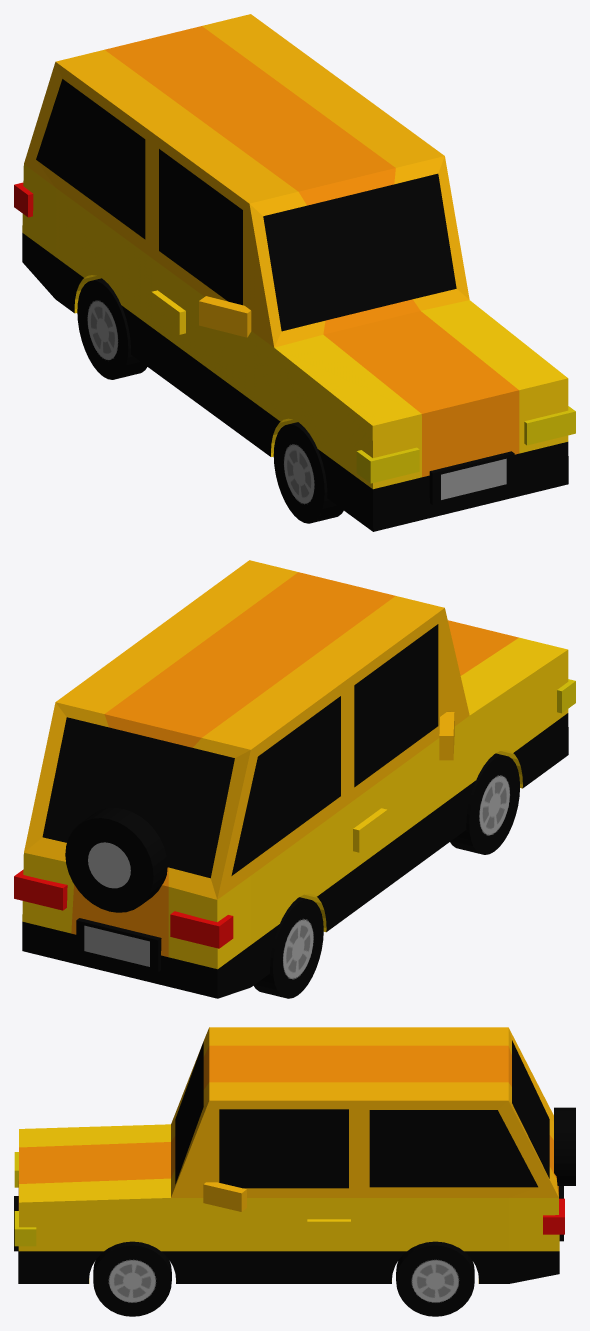
File: Mobil_4_Kuning_D.fbx
The picture shows the model from 3 angles, top to bottom: view 1: azimuth 30°, elevation 25°; view 2: azimuth 150°, elevation 25°; view 3: azimuth 270°, elevation 25°; orthographic projection. The views are drawn at different scales.
Parts seen in each view (by area): view 1: Mobil4; view 2: Mobil4; view 3: Mobil4.
Part boxes in pixels (x1,y1,x2,y2): Mobil4: [14, 14, 575, 531]; Mobil4: [14, 560, 575, 998]; Mobil4: [14, 1027, 575, 1316].
Size of the model in its own units: 519 by 546 by 1287.
Materials: 6 (4 with a texture image).
